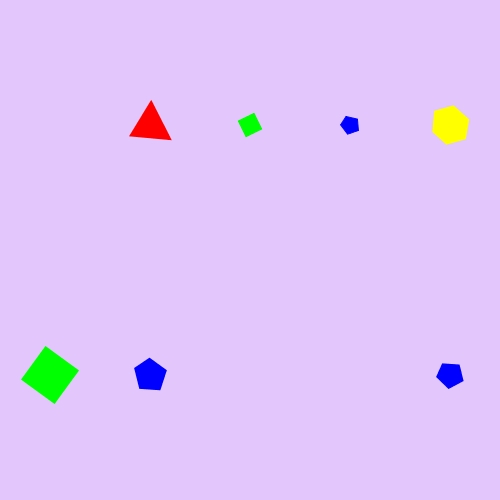hexagon: (426, 105, 475, 146)
pentagon: (130, 355, 171, 396), (433, 358, 468, 393), (336, 111, 364, 139)
quadrilateral: (18, 343, 82, 407), (233, 108, 267, 142)
triangle: (127, 101, 173, 149)
